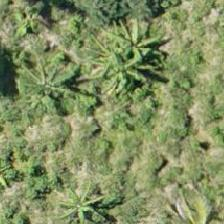coconut_tree: (164, 171, 223, 223)
